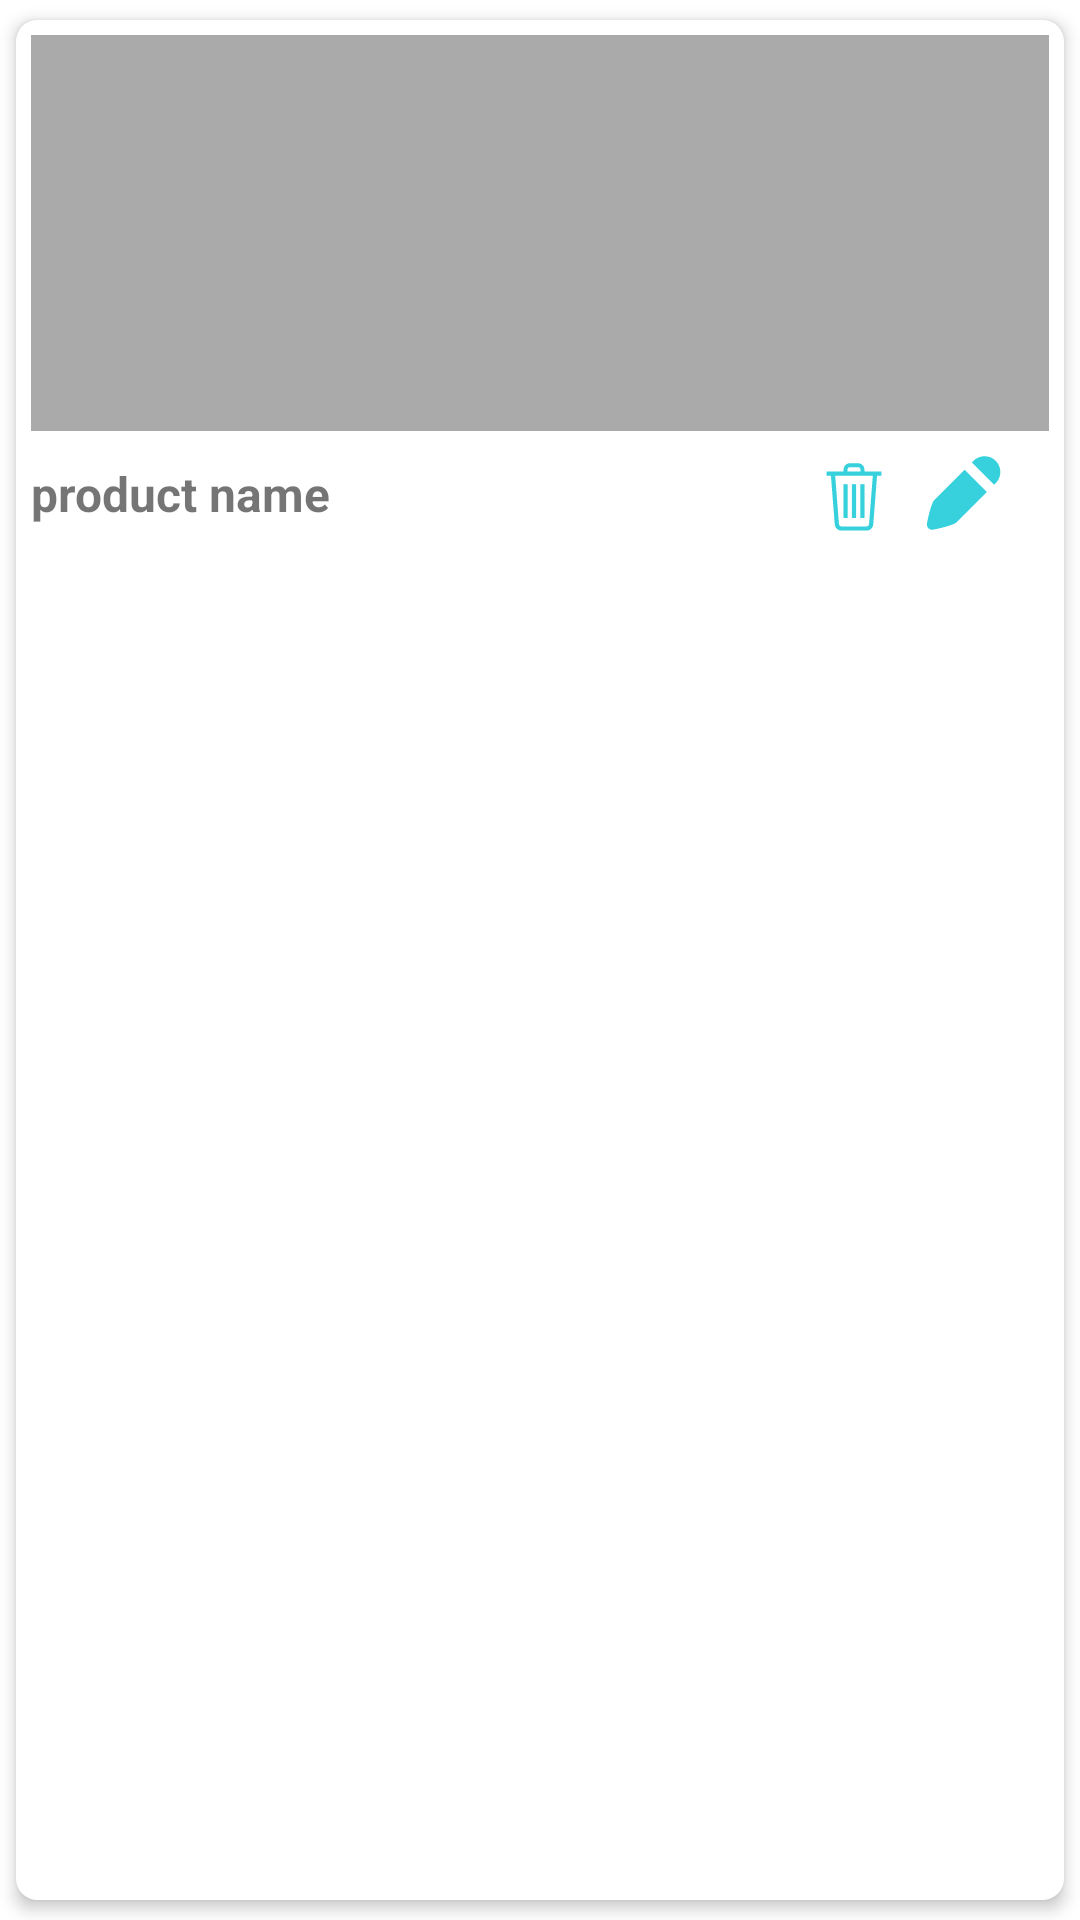

Screen size 1080 x 1920. Icon name, then its center in pixels as (x=x, y=y):
delete: (x=854, y=497)
edit: (x=963, y=493)
